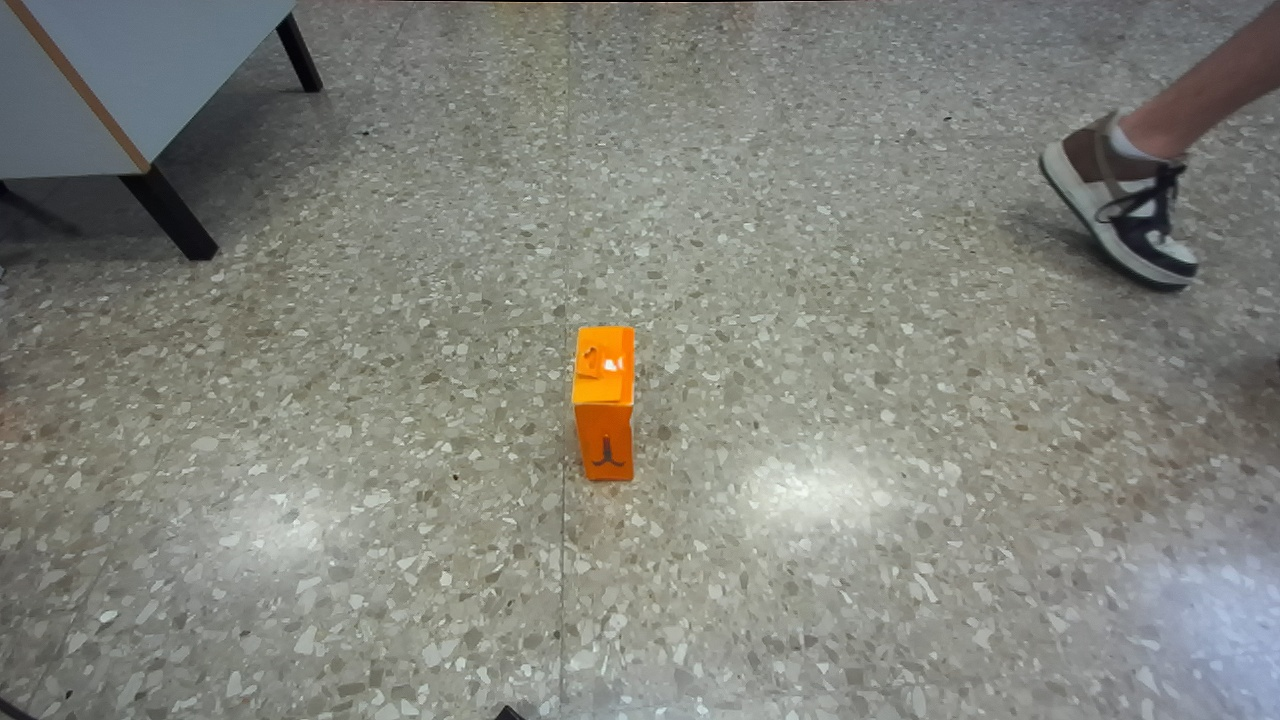caja_pcb: (572, 326, 634, 480)
